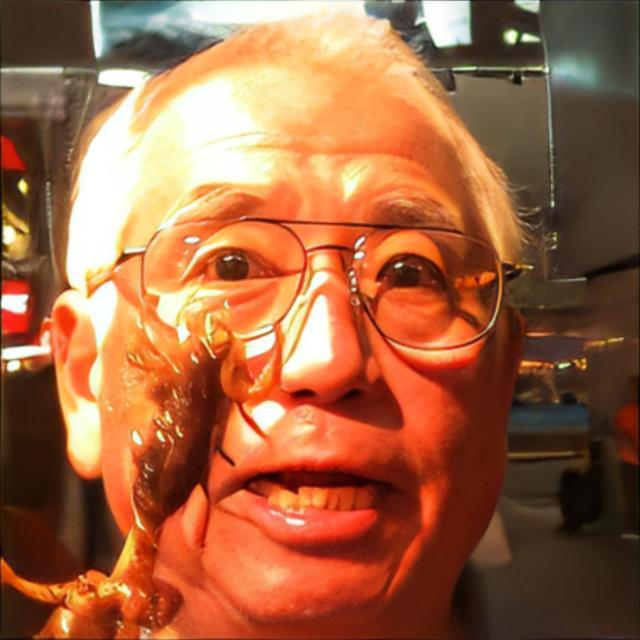surprise: (99, 54, 507, 640)
